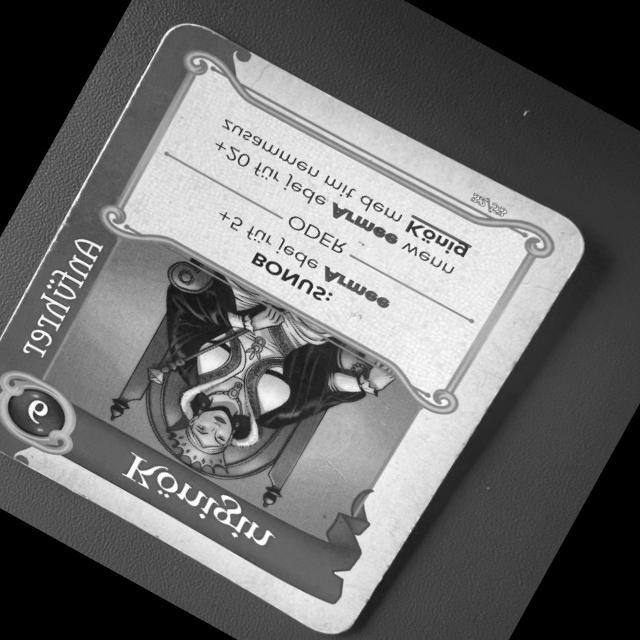Queen: (0, 5, 622, 640)
